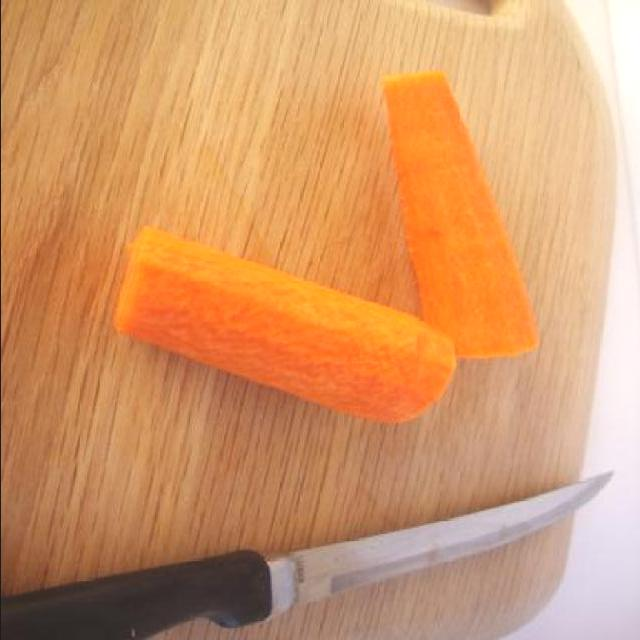carrot: (110, 225, 450, 429), (381, 72, 549, 361)
